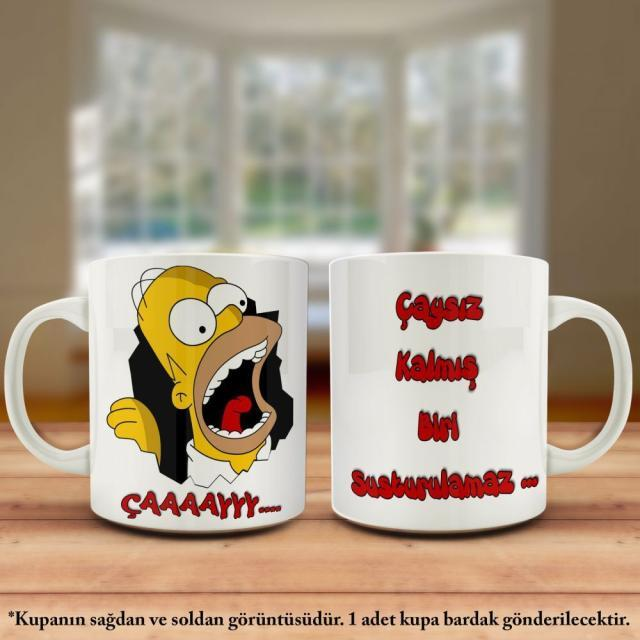Coffee Mug: (327, 251, 632, 536), (3, 254, 309, 536)
